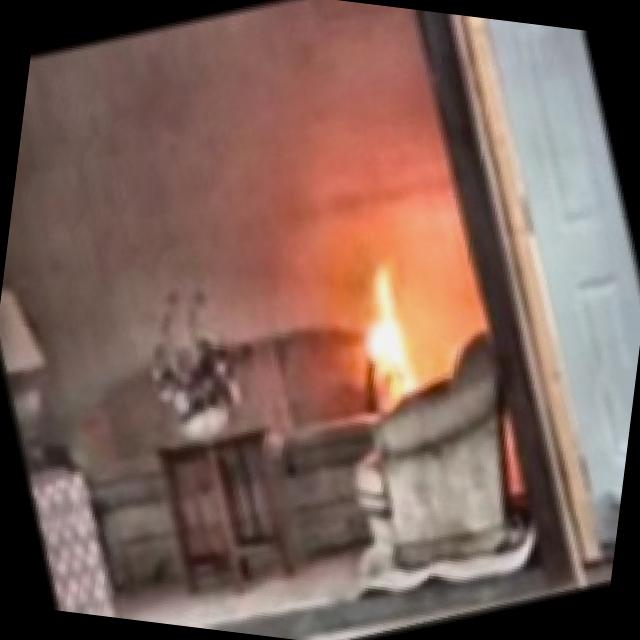fire: (294, 230, 478, 429)
